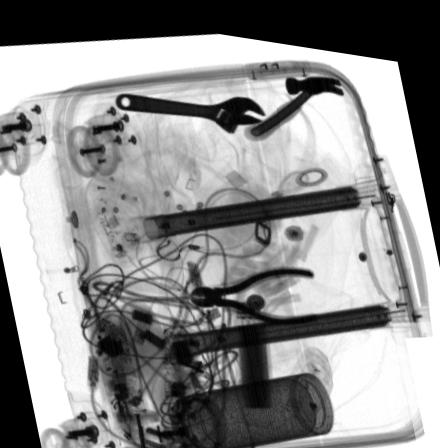Hammer: (243, 65, 344, 131)
Pliers: (187, 257, 321, 316)
Powerbank: (235, 304, 275, 416)
Wrench: (114, 87, 266, 126)
